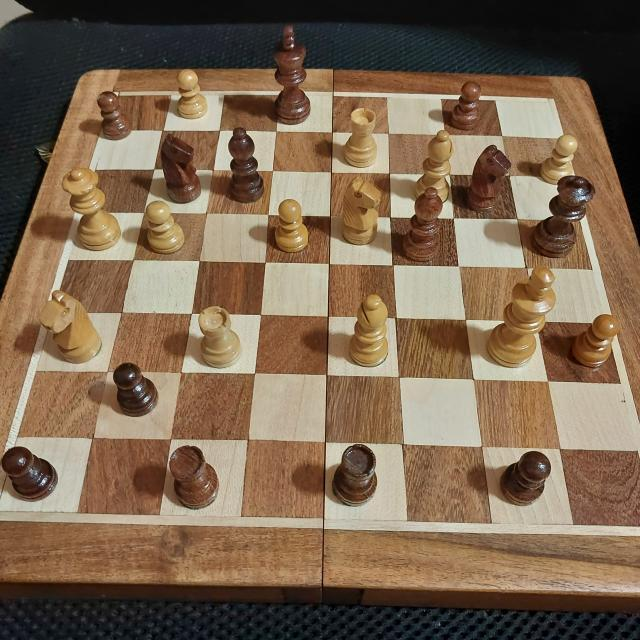black-camel: (224, 127, 266, 203), (414, 187, 446, 257)
black-elephant: (165, 444, 232, 513), (329, 442, 378, 507)
black-horse: (469, 143, 513, 210), (155, 138, 200, 202)
black-king: (270, 26, 312, 124)
black-pawn: (496, 449, 557, 509), (1, 448, 64, 500), (110, 362, 161, 417), (98, 88, 130, 147), (452, 84, 485, 130)
black-queen: (529, 175, 598, 258)
white-camel: (350, 291, 390, 365), (416, 130, 456, 192)
white-elephant: (193, 304, 248, 364), (345, 108, 378, 166)
white-horse: (30, 288, 104, 364), (340, 174, 384, 248)
white-king: (474, 266, 556, 370)
white-pawn: (574, 310, 619, 374), (142, 200, 186, 253), (274, 200, 311, 252), (172, 66, 208, 118), (557, 131, 578, 175)
white-queen: (63, 168, 124, 254)
